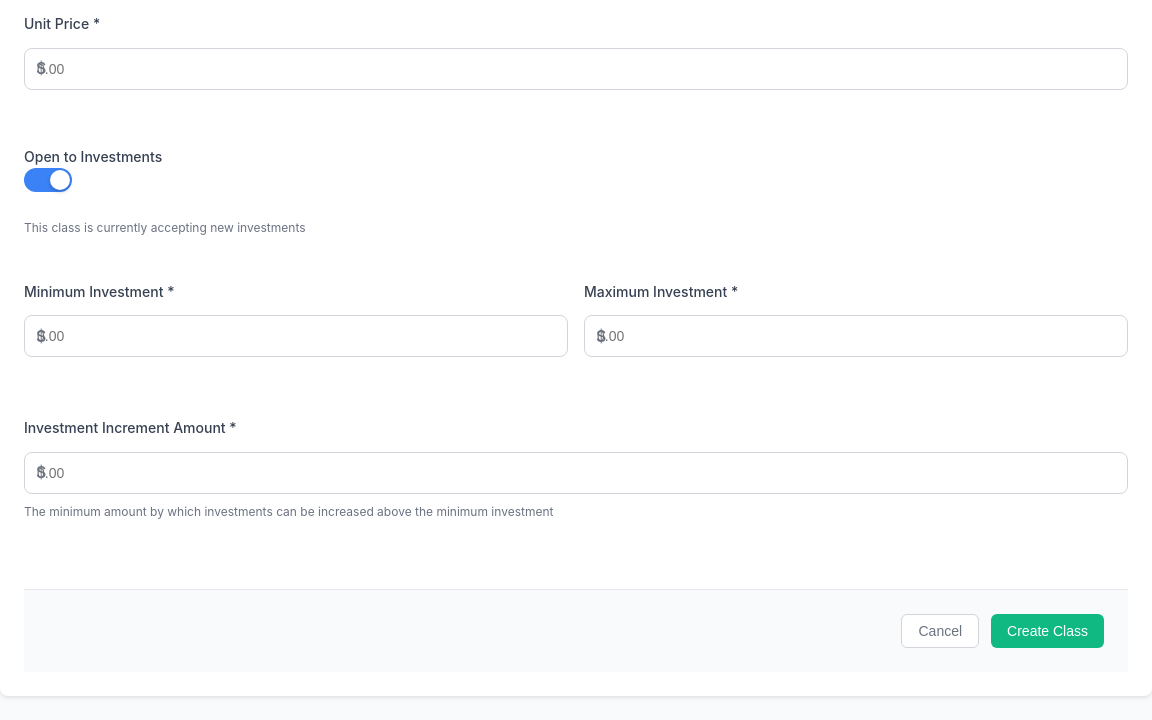
Scenario: DebtEquityClassForm › shows validation errors for empty required fields
(page scrolled)
Click the button "Create Class" at (1048, 630), box 991,614 -> 1104,648
(page scrolled)
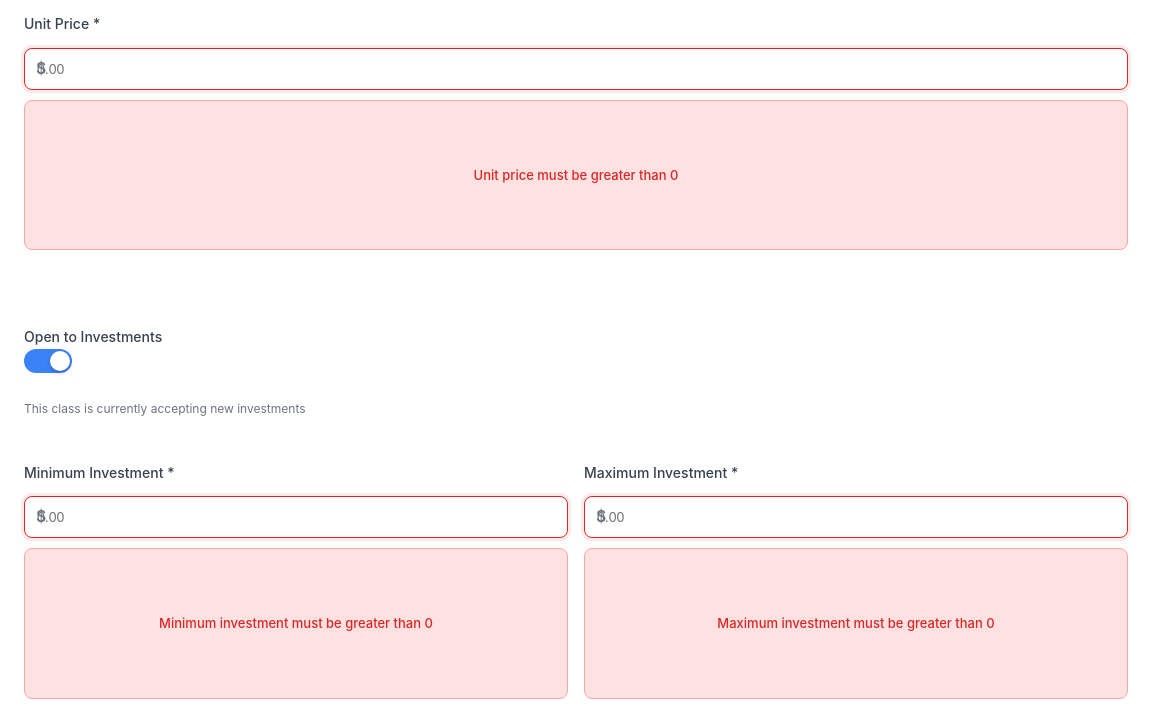
Result: the text "Unit price must be greater than 0" is shown at 24,100 -> 1128,250
